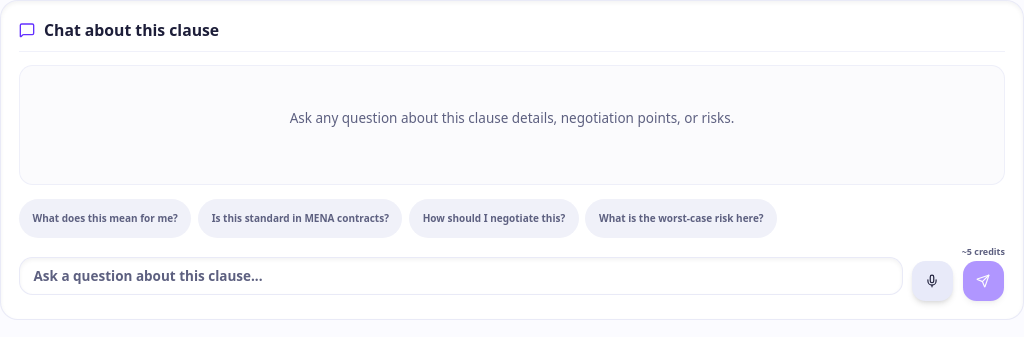
Test case: ClauseChat Component › populates input field when suggested question chips are clicked
Click the button "What does this mean for me?". click: (105, 218)
box: [19,198,191,238]
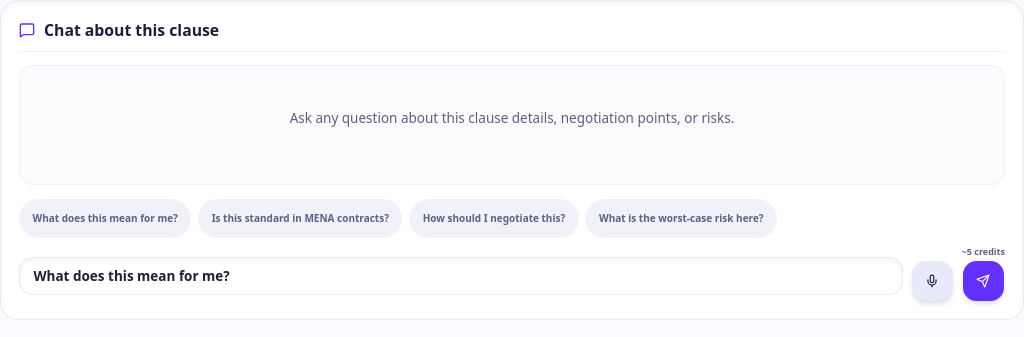
Expected: the text box with placeholder "Ask a question about this clause..." holds "What does this mean for me?", [19,257,903,295]
